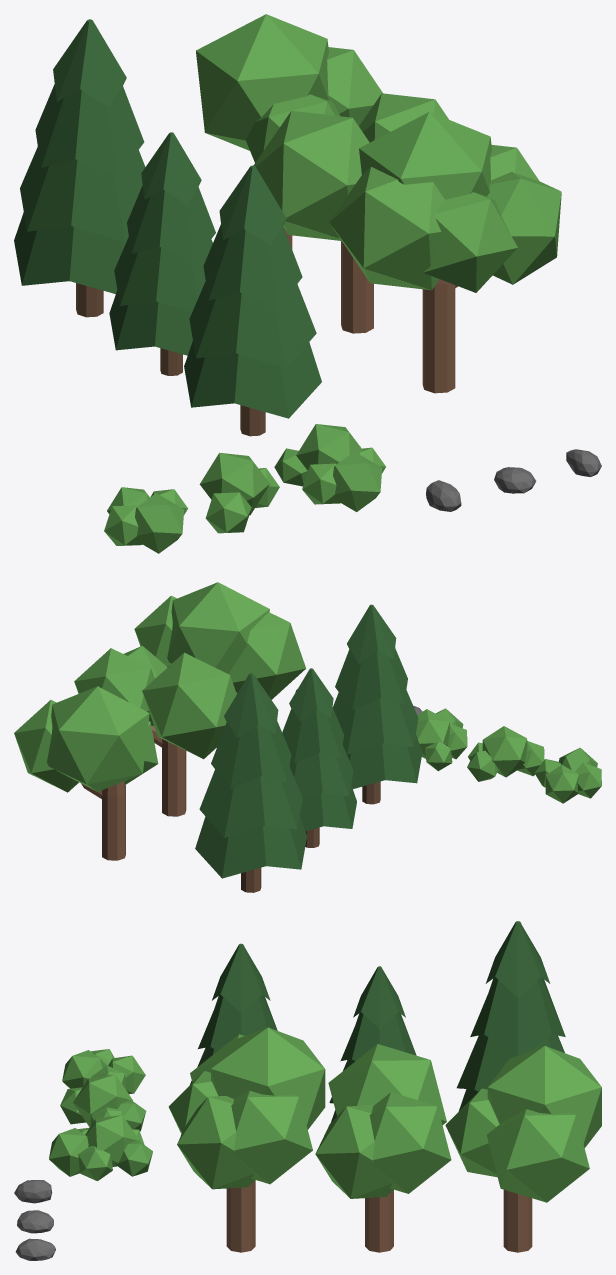
File: trees2.glb
3 views of the same model, one above another, from view 1: azimuth 30°, elevation 25°; view 2: azimuth 150°, elevation 25°; view 3: azimuth 270°, elevation 25° (orthographic). The views are drawn at different scales.
Parts seen in each view (by area): view 1: Circle.003, Circle.011, Circle, Circle.007, Circle.008, Circle.006, Icosphere.005, Icosphere.007, Icosphere.008, Icosphere.001, Icosphere, Icosphere.002; view 2: Circle.011, Circle.007, Circle.006, Circle.003, Circle, Circle.008, Icosphere.007, Icosphere.008, Icosphere.005; view 3: Circle.003, Circle.007, Circle.006, Circle.011, Icosphere.005, Circle, Circle.008, Icosphere.007, Icosphere.008, Icosphere, Icosphere.002, Icosphere.001.
Part boxes in pixels (x1,y1,x2,y2): Circle.003: (329,112,561,393); Circle.011: (14,19,145,317); Circle: (184,165,321,436); Circle.007: (196,14,382,249); Circle.008: (109,132,215,375); Circle.006: (254,93,448,333); Icosphere.005: (274,424,385,511); Icosphere.007: (199,452,279,533); Icosphere.008: (104,487,187,553); Icosphere.001: (494,467,536,493); Icosphere: (426,480,461,511); Icosphere.002: (566,449,601,476); Circle.011: (195,673,306,892); Circle.007: (14,686,158,860); Circle.006: (74,646,236,816); Circle.003: (134,582,305,699); Circle: (333,604,422,804); Circle.008: (282,668,356,847); Icosphere.007: (467,726,544,781); Icosphere.008: (534,747,601,803); Icosphere.005: (416,708,467,771); Circle.003: (168,1027,325,1252); Circle.007: (445,1046,601,1252); Circle.006: (315,1044,451,1252); Circle.011: (456,921,565,1111); Icosphere.005: (49,1115,152,1181); Circle: (181,943,277,1135); Circle.008: (329,966,416,1122); Icosphere.007: (60,1074,146,1131); Icosphere.008: (62,1049,145,1094); Icosphere: (14,1180,52,1203); Icosphere.002: (15,1238,55,1260); Icosphere.001: (17,1210,53,1233).
Size of the model in its own units: 23.64 by 12.63 by 26.91.
